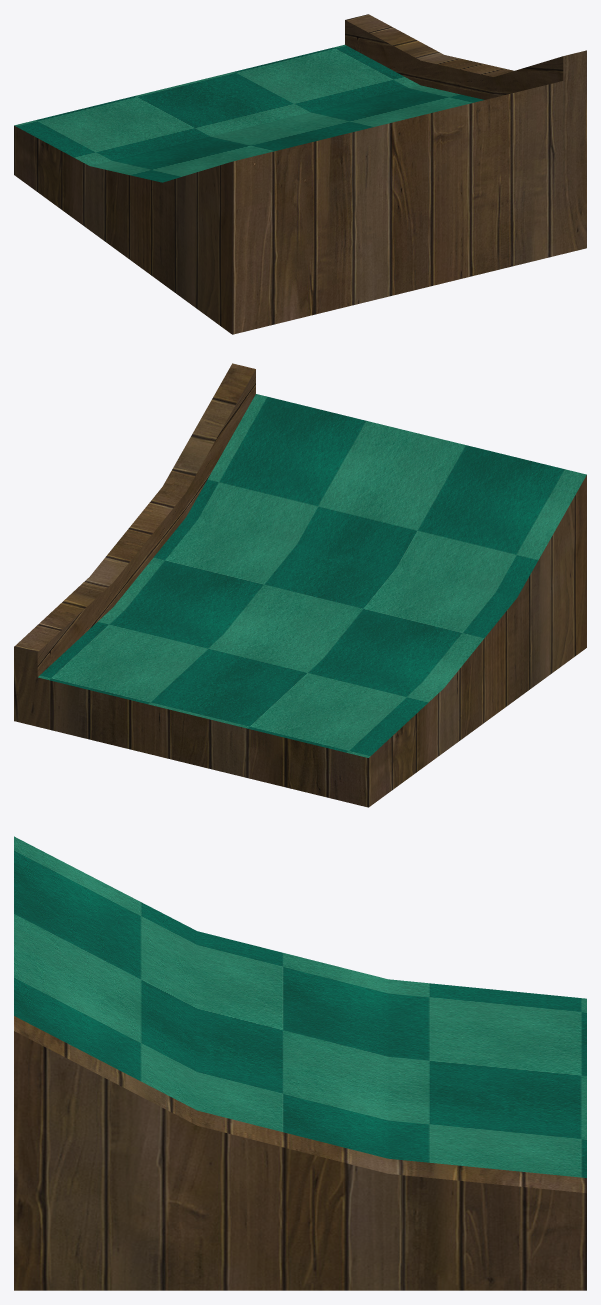
Rendered from Ramp3_corner.gltf.
3 renders of one model, top to bottom at view 1: azimuth 30°, elevation 25°; view 2: azimuth 150°, elevation 25°; view 3: azimuth 270°, elevation 25°, orthographic. The views are drawn at different scales.
Visible parts, largest first — view 1: Ramp3_corner_glb; view 2: Ramp3_corner_glb; view 3: Ramp3_corner_glb.
Boxes of the visible parts, bbox=[...] form: Ramp3_corner_glb: bbox=[14, 14, 586, 334]; Ramp3_corner_glb: bbox=[14, 363, 586, 807]; Ramp3_corner_glb: bbox=[14, 836, 586, 1290].
Size of what is drawn, in the model's own units: 3.75 by 2 by 4.
Materials: 2 (2 with a texture image).
